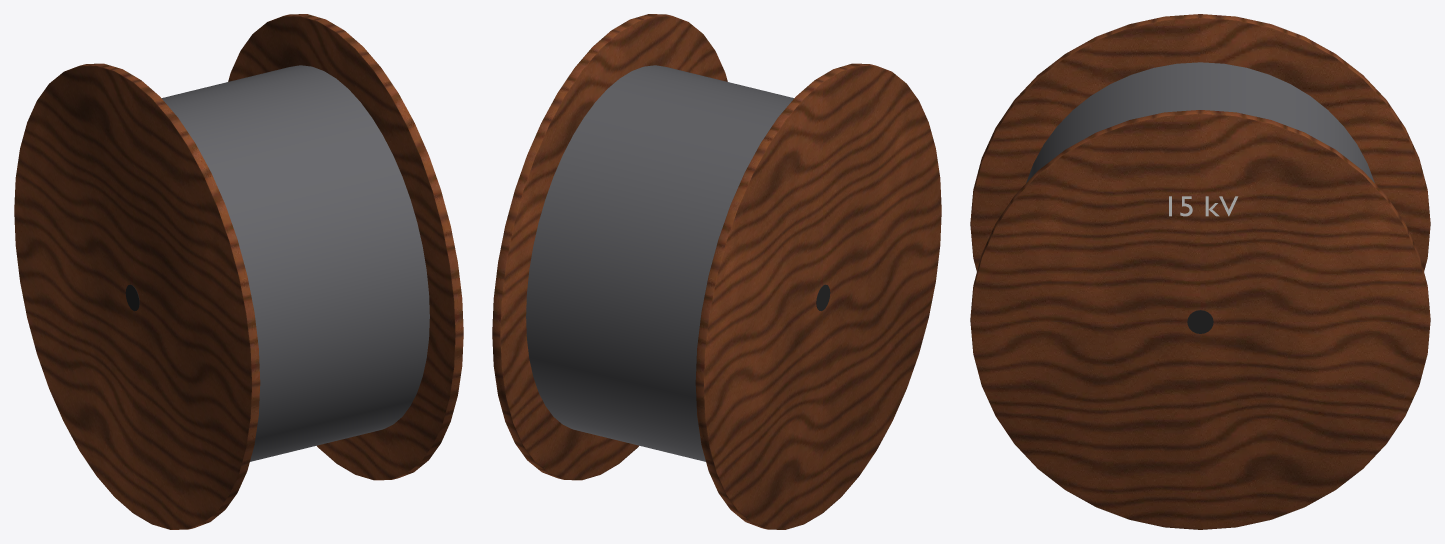
The model's file is ELE-FIO-009_anim.glb.
3 views of the same model, side by side, from view 1: azimuth 30°, elevation 25°; view 2: azimuth 150°, elevation 25°; view 3: azimuth 270°, elevation 25° (orthographic). The views are drawn at different scales.
Parts seen in each view (by area): view 1: ELE-FIO-009_anim0; view 2: ELE-FIO-009_anim0; view 3: ELE-FIO-009_anim0.
Part boxes in pixels (x1=…): ELE-FIO-009_anim0: x1=14, y1=14, x2=463, y2=529; ELE-FIO-009_anim0: x1=492, y1=14, x2=941, y2=529; ELE-FIO-009_anim0: x1=970, y1=14, x2=1430, y2=529.
Bounding box in the file's own units: 0.722 × 1.4 × 1.4.
Materials: 4 (1 with a texture image).
